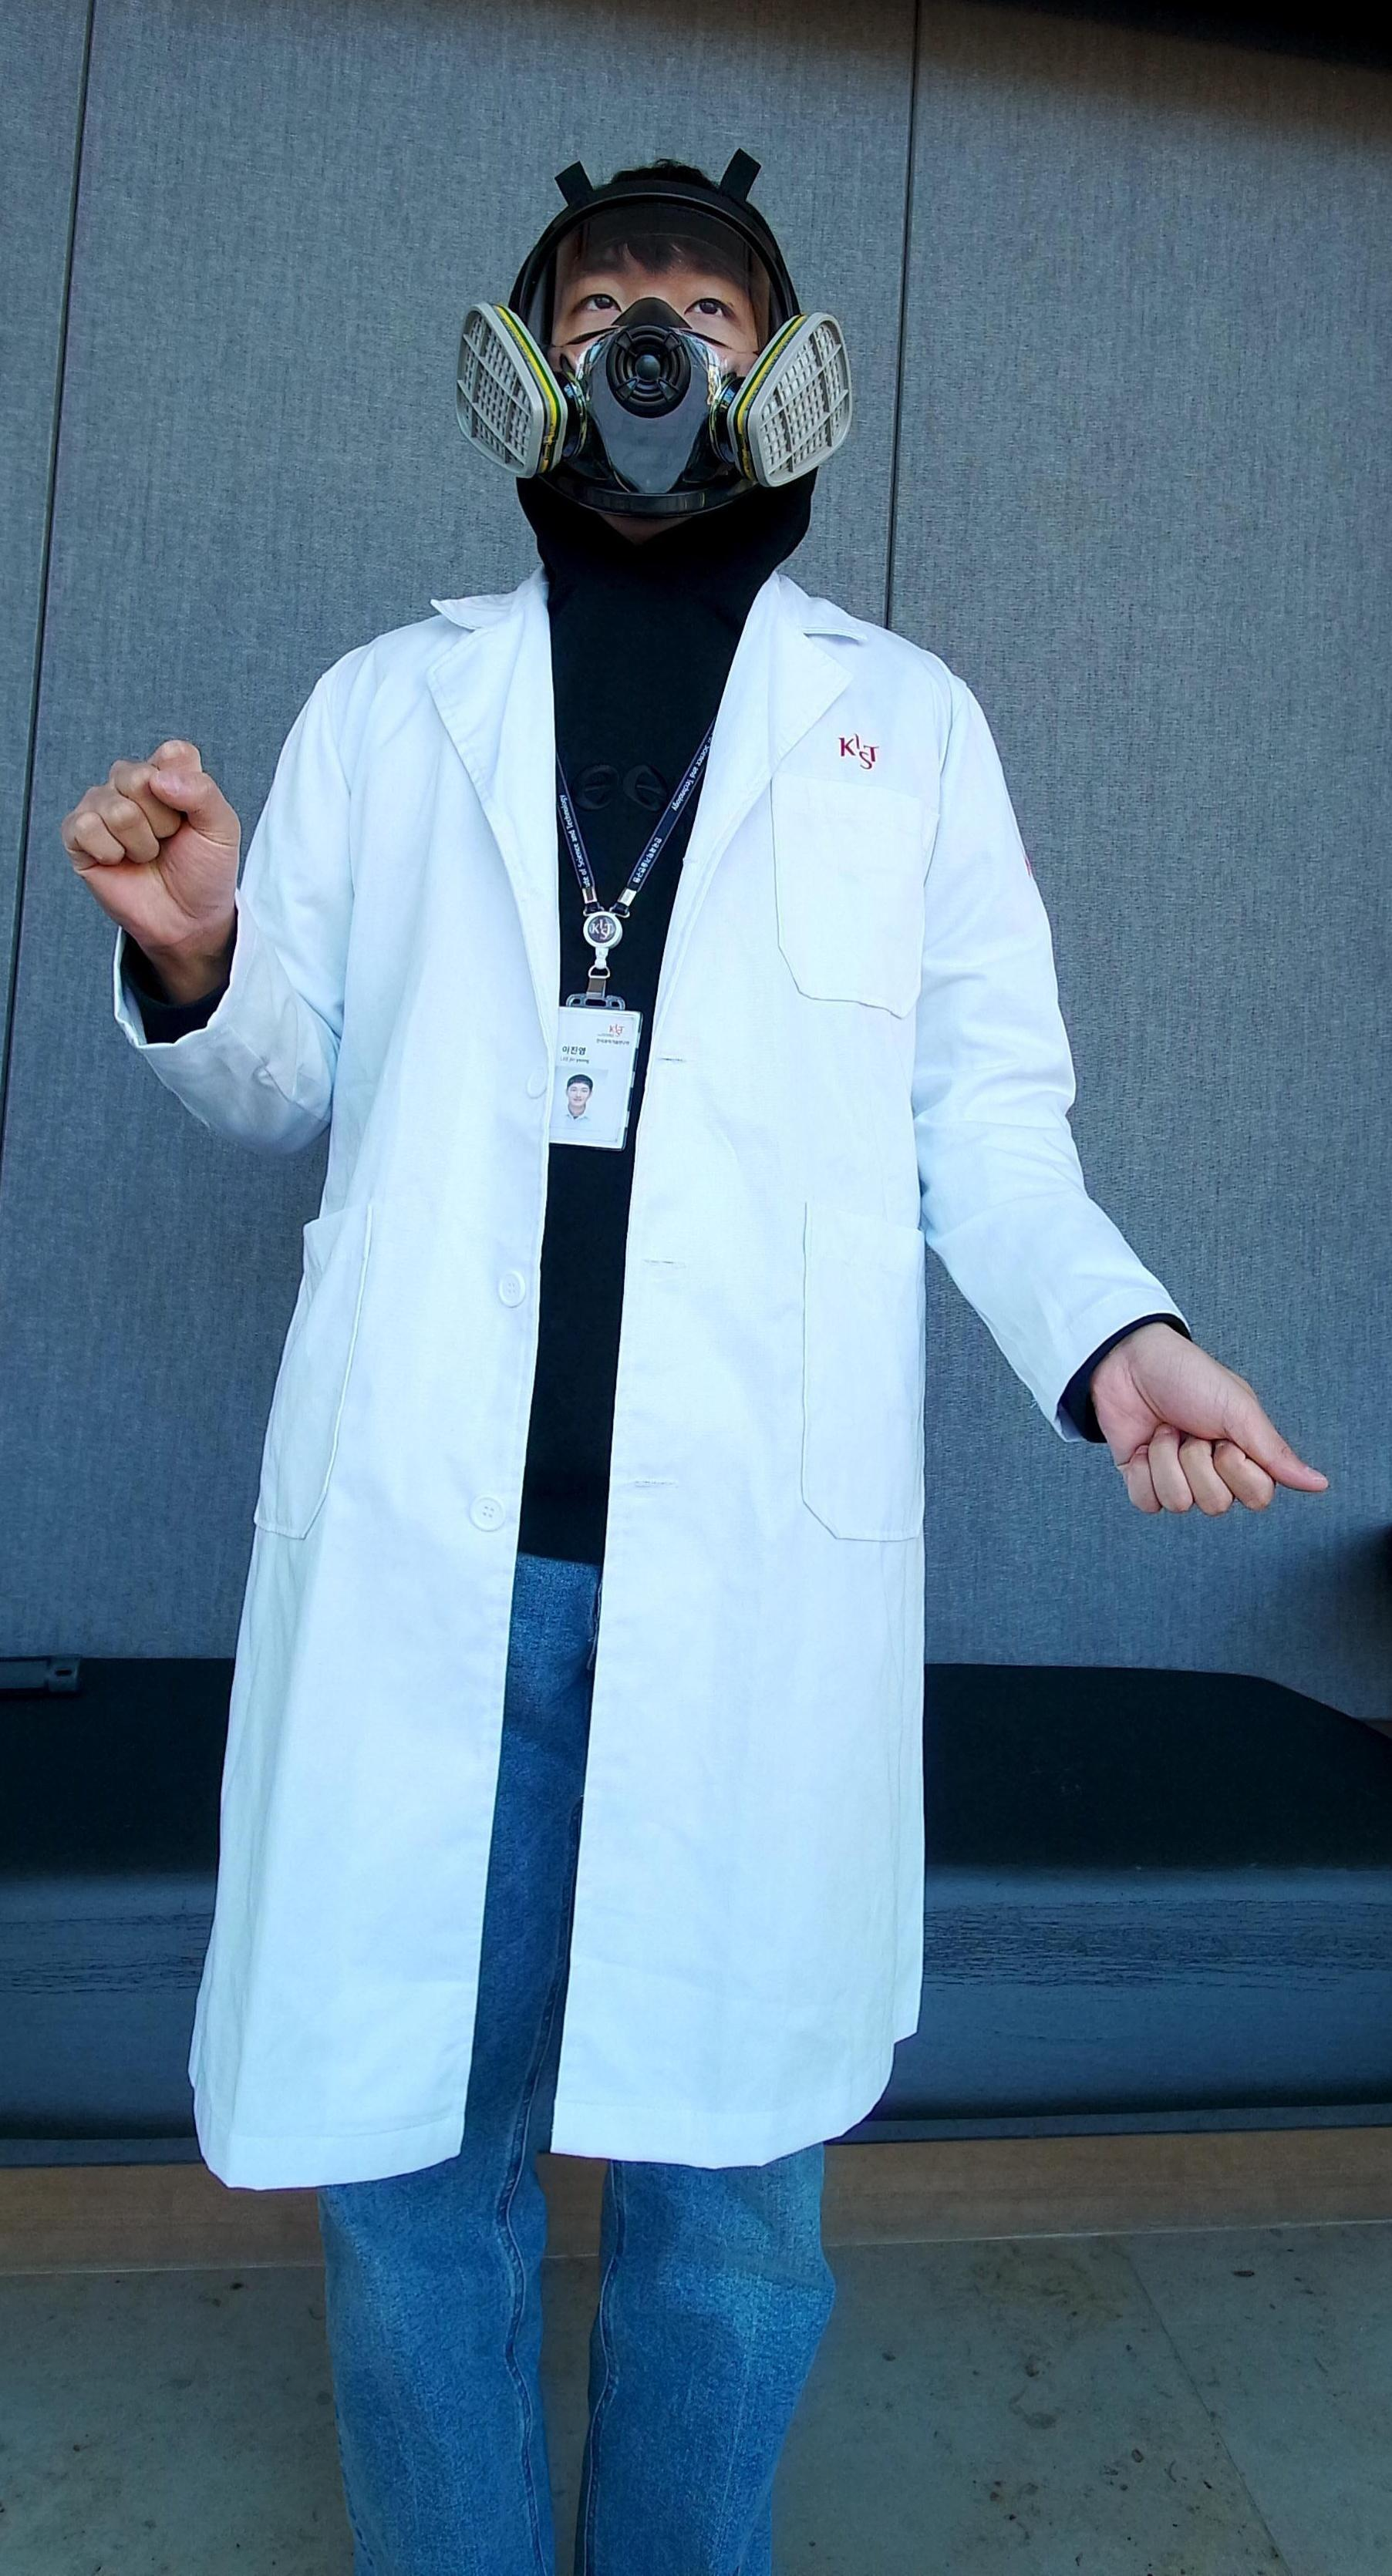lab_coat: (249, 641, 962, 2166)
